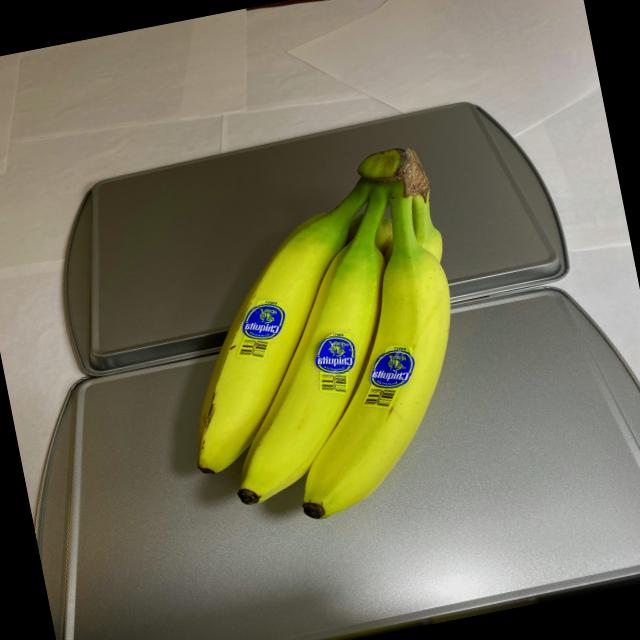banana: (144, 138, 502, 548)
